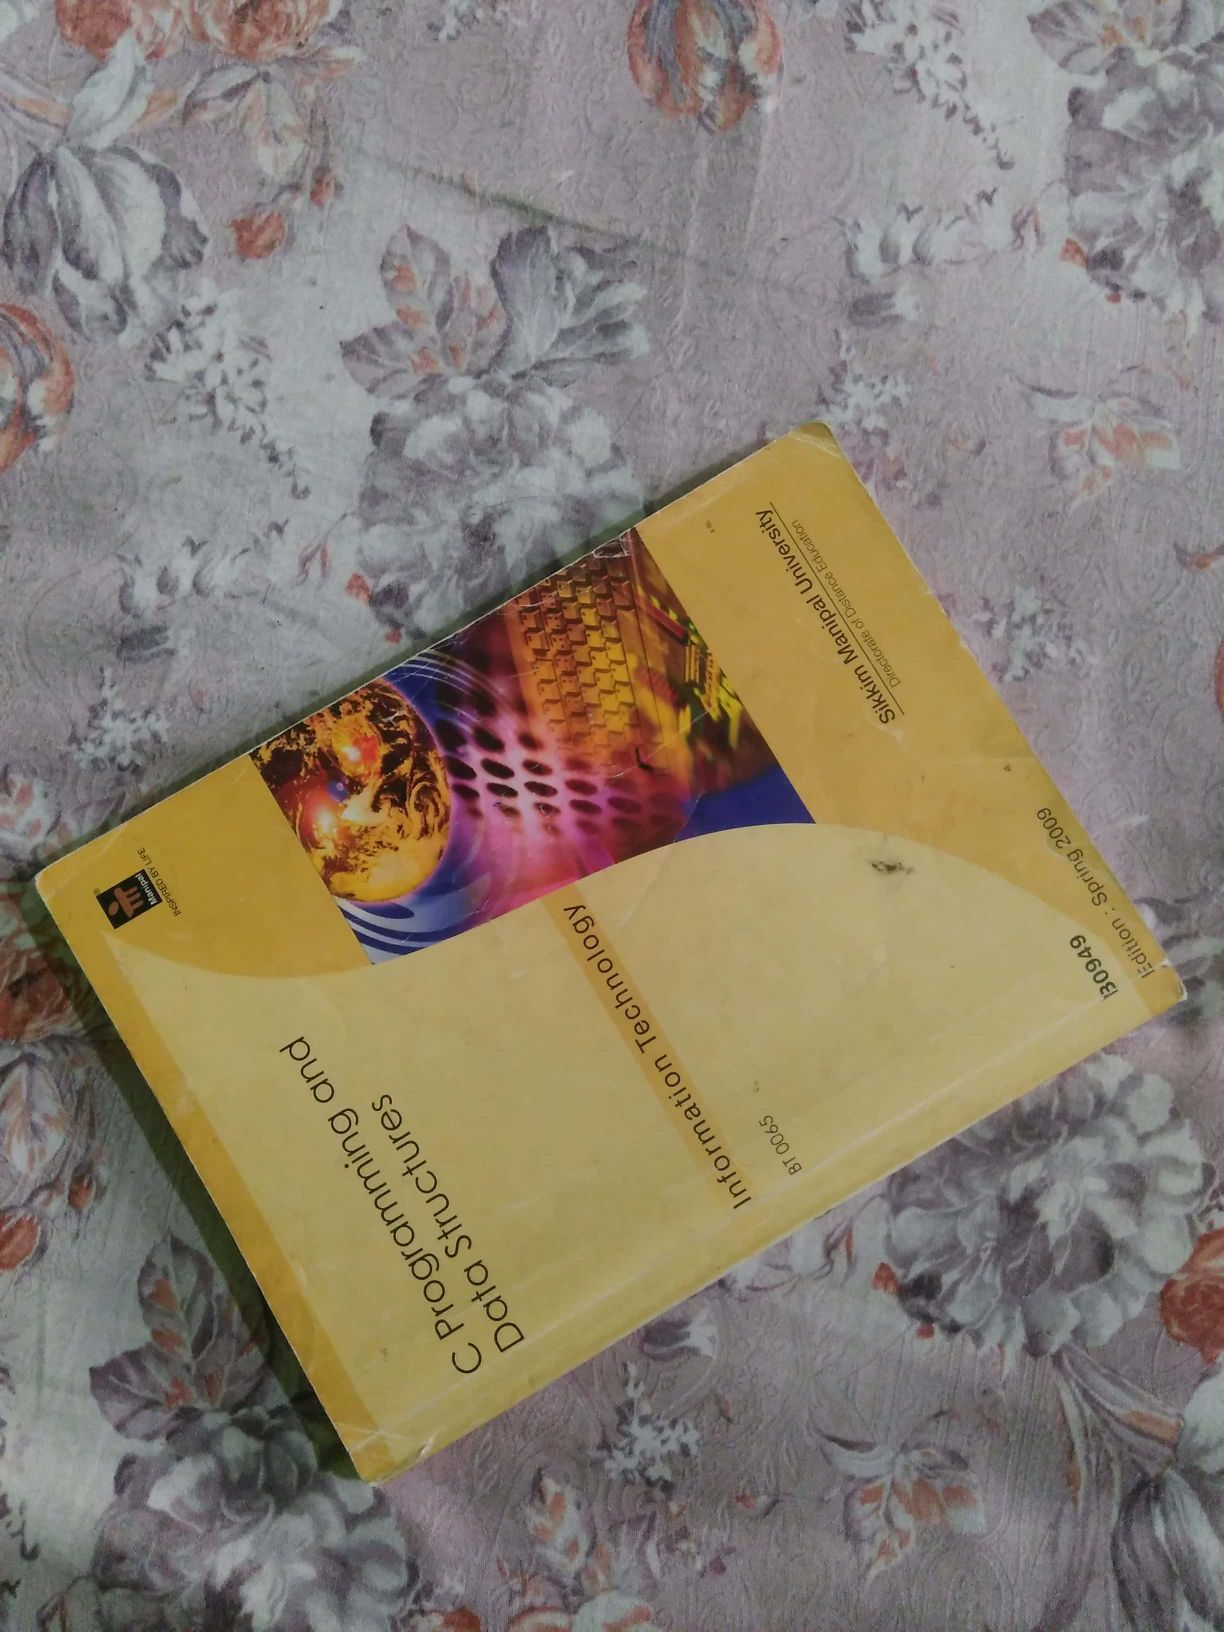clang: (54, 478, 1187, 1348)
